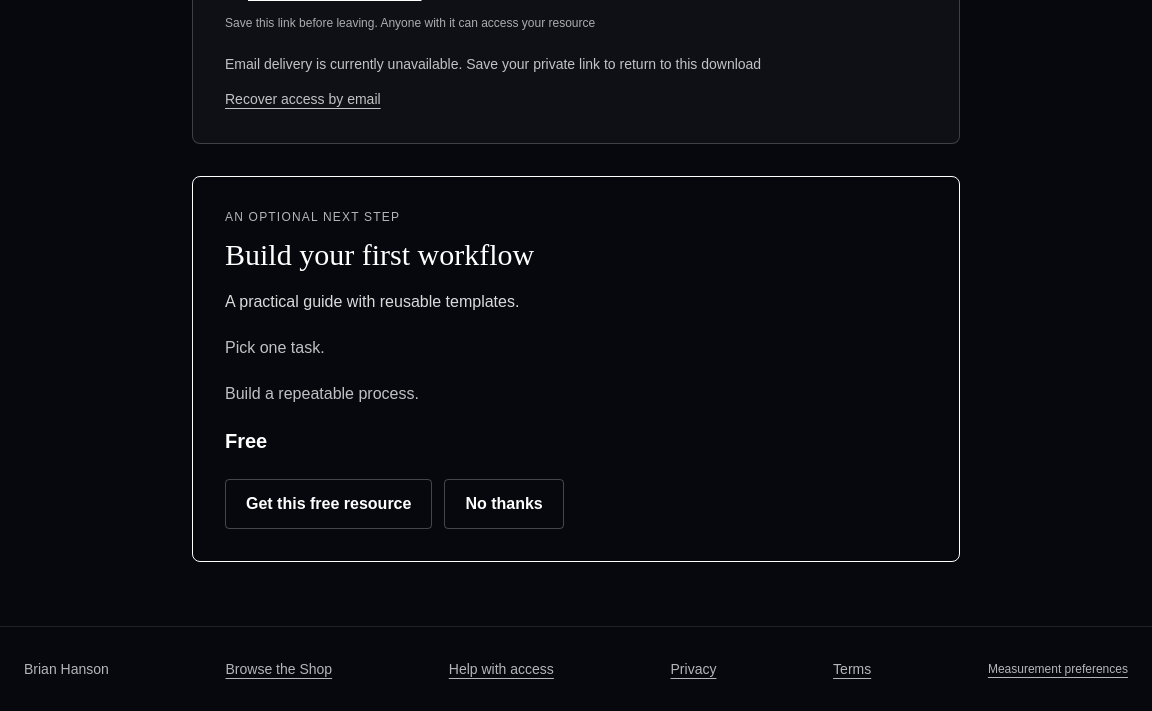
Test case: offer visitor journey › recovers the child after a lost response and reload without losing the parent
The width and height of the screenshot is (1152, 711).
Later steps or results of the test are not shown.
(page scrolled)
Click the button "Get this free resource".
click(329, 504)  # box x1=225 y1=478 x2=432 y2=528
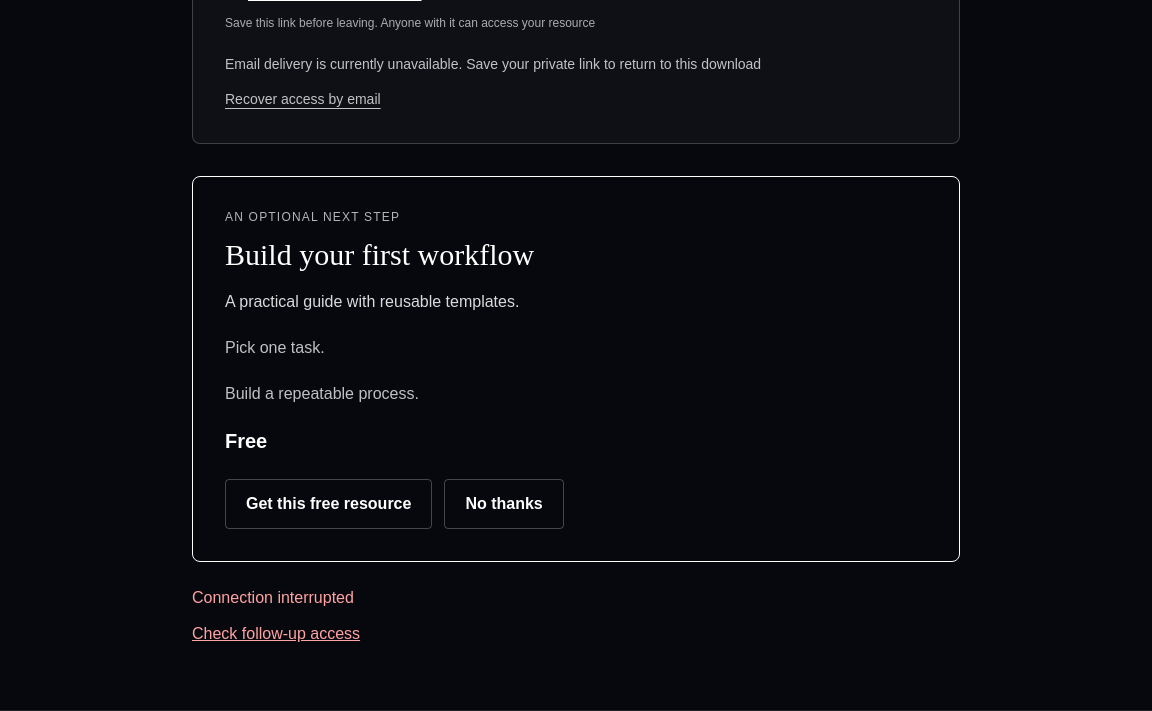
Expected: the message "Connection interrupted Check follow-up access" is shown, x1=192 y1=588 x2=360 y2=642
Expected: the link "Check follow-up access" is shown, x1=192 y1=622 x2=360 y2=646
